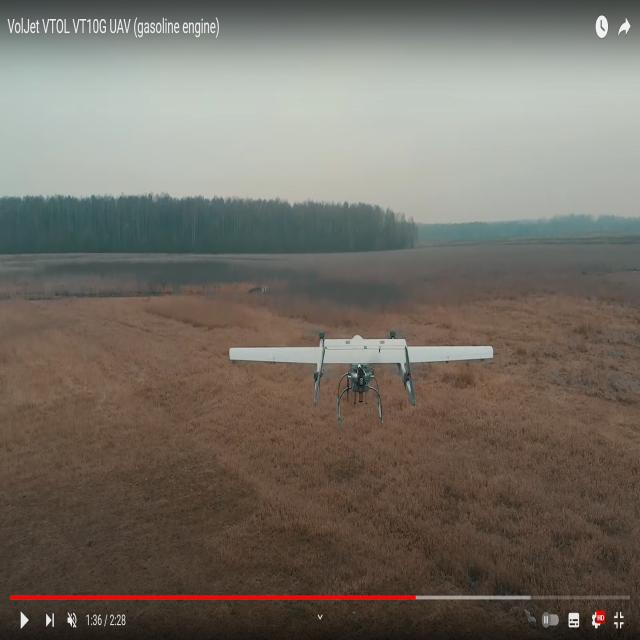iha: (228, 339, 486, 399)
